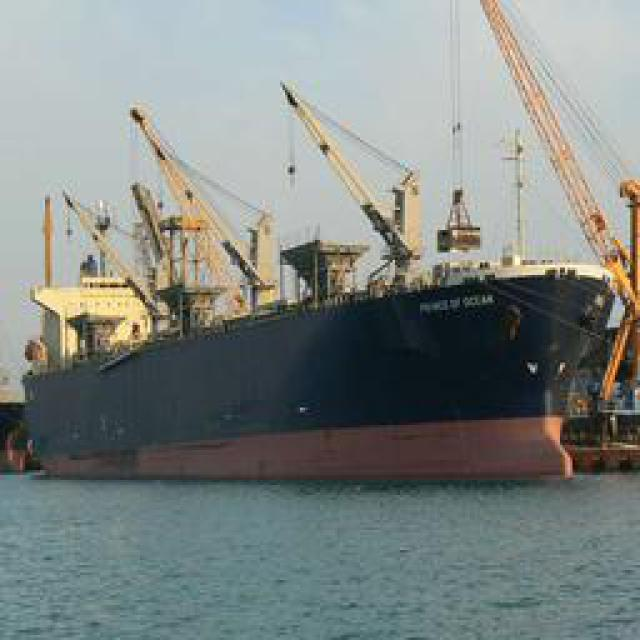Ship: (16, 45, 611, 490)
